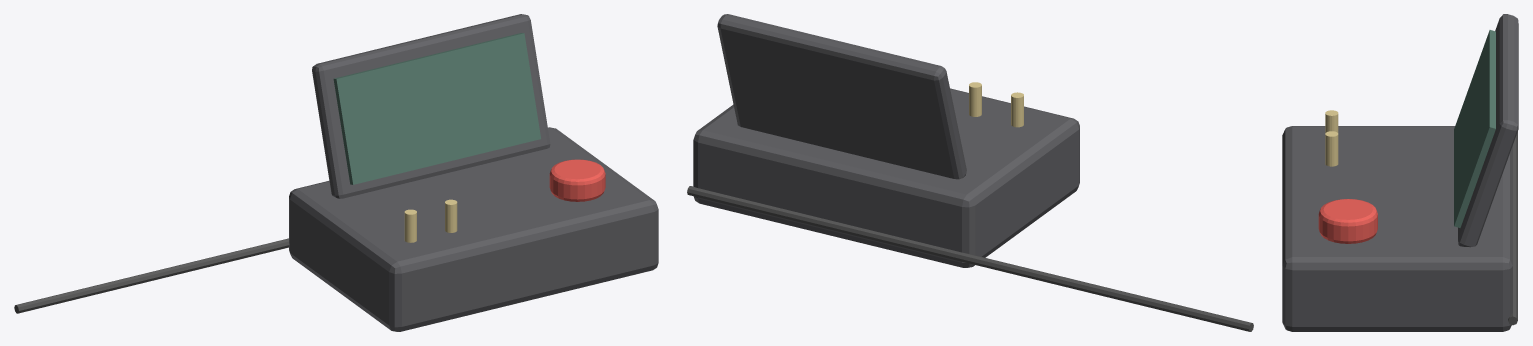
File: test_jig.fbx
3 views of the same model, side by side, from view 1: azimuth 30°, elevation 25°; view 2: azimuth 150°, elevation 25°; view 3: azimuth 270°, elevation 25° (orthographic). The views are drawn at different scales.
Visible parts, largest first — view 1: test_jig; view 2: test_jig; view 3: test_jig.
Boxes of the visible parts, x1,y1,x2,y2 form: test_jig: (14, 14, 658, 331); test_jig: (687, 14, 1253, 331); test_jig: (1282, 14, 1518, 331).
Size of the model in its own units: 0.4 by 0.1334 by 0.1434.
